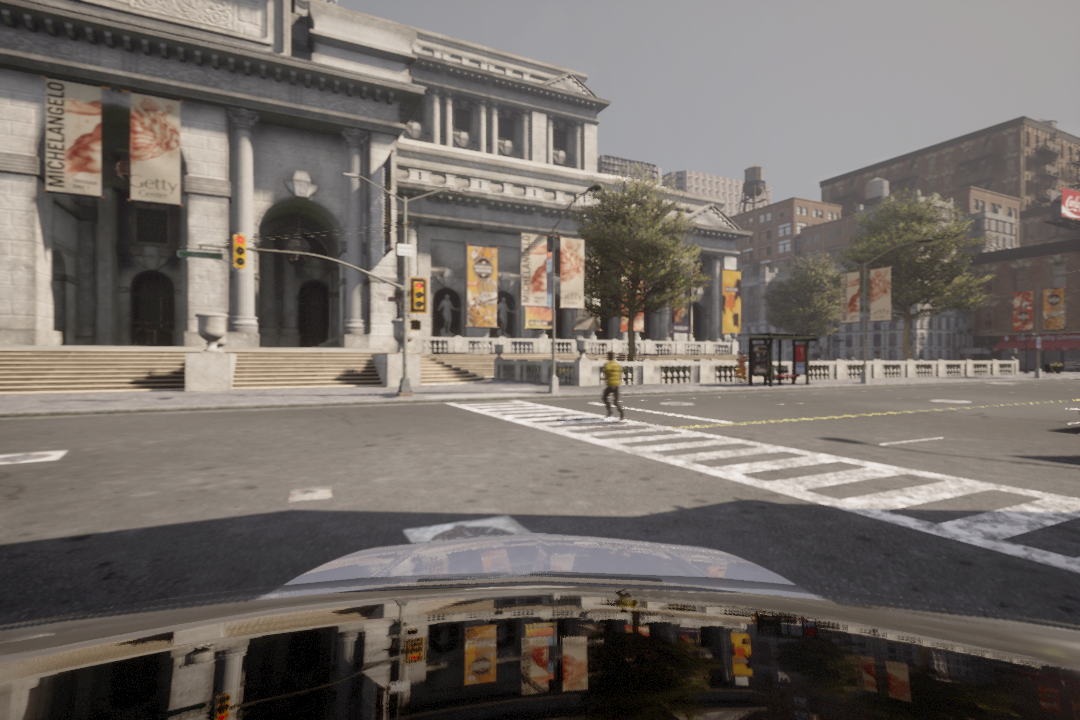TrafficLight: (409, 280, 430, 312), (232, 234, 251, 266)
walkside: (444, 394, 1080, 570)
